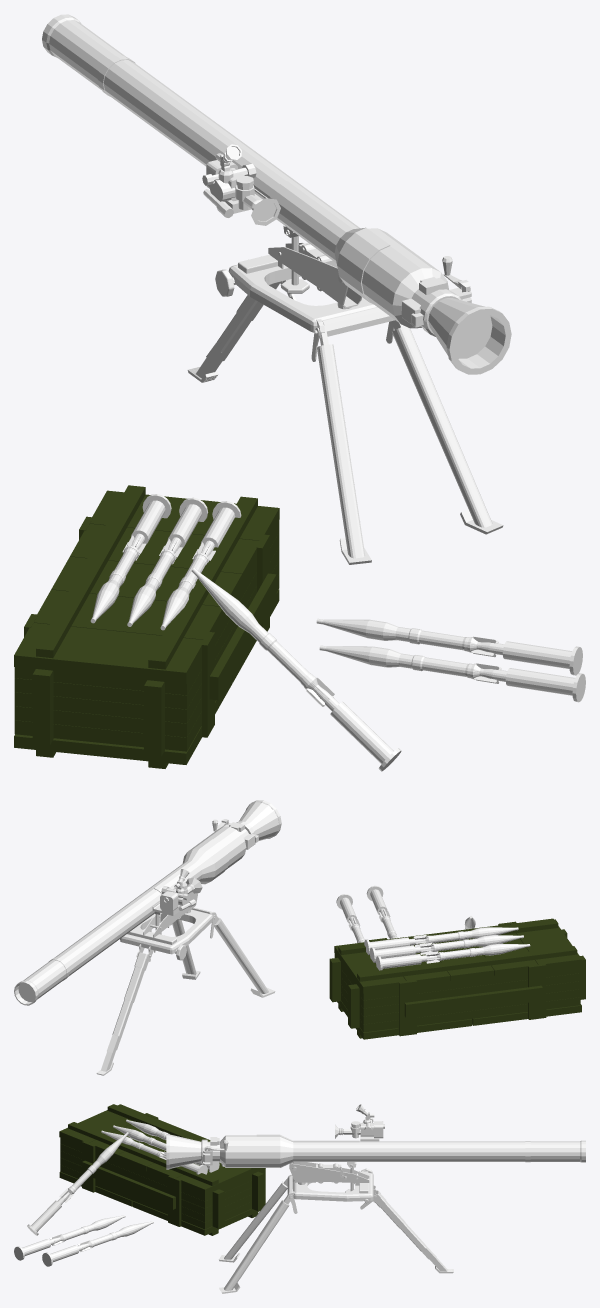
Rendered from spg9.glb.
The picture shows the model from 3 angles, top to bottom: view 1: azimuth 30°, elevation 25°; view 2: azimuth 150°, elevation 25°; view 3: azimuth 270°, elevation 25°; orthographic projection. The views are drawn at different scales.
Visible parts, largest first — view 1: Cube.001, Barrel, Charge.003, Charge.001, Charge.002; view 2: Cube.001, Barrel, Charge.002, Charge.001; view 3: Barrel, Cube.001, Charge.003, Charge.001, Charge.002.
Boxes of the visible parts, <box> form: Cube.001: <box>14,485,279,768</box>; Barrel: <box>42,14,511,564</box>; Charge.003: <box>191,568,401,771</box>; Charge.001: <box>316,618,582,675</box>; Charge.002: <box>319,645,585,702</box>; Cube.001: <box>329,918,585,1039</box>; Barrel: <box>14,800,281,1075</box>; Charge.002: <box>366,885,398,938</box>; Charge.001: <box>336,894,364,942</box>; Barrel: <box>166,1104,585,1293</box>; Cube.001: <box>59,1104,265,1235</box>; Charge.003: <box>27,1132,128,1235</box>; Charge.001: <box>42,1221,153,1266</box>; Charge.002: <box>14,1215,125,1260</box>.
Bounding box in the file's own units: 1.72 × 0.9591 × 2.88.
